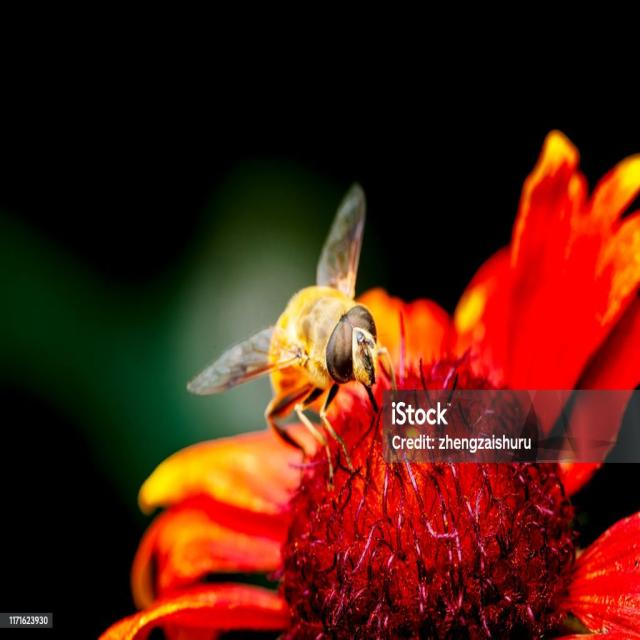hoverfly: (184, 180, 396, 480)
